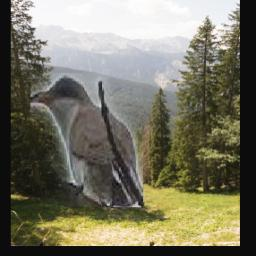Cuckoo: (30, 74, 143, 208)
